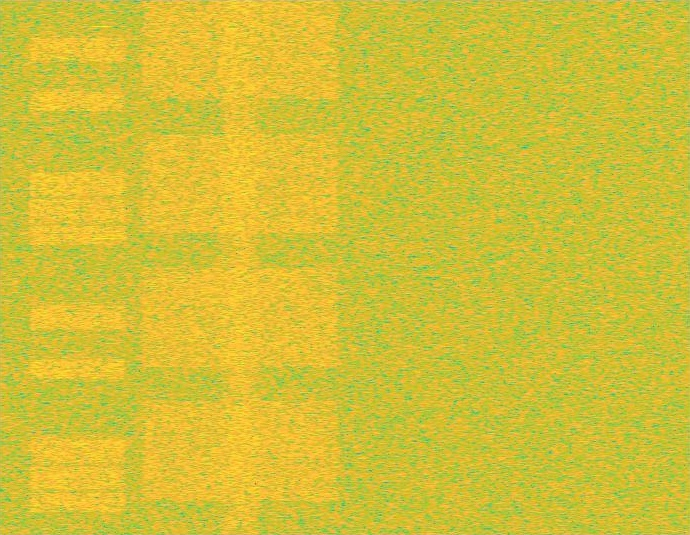5G: (137, 0, 344, 534)
DSSS: (217, 0, 263, 534)
LTE: (26, 0, 130, 534)
Radar: (95, 0, 109, 534)
